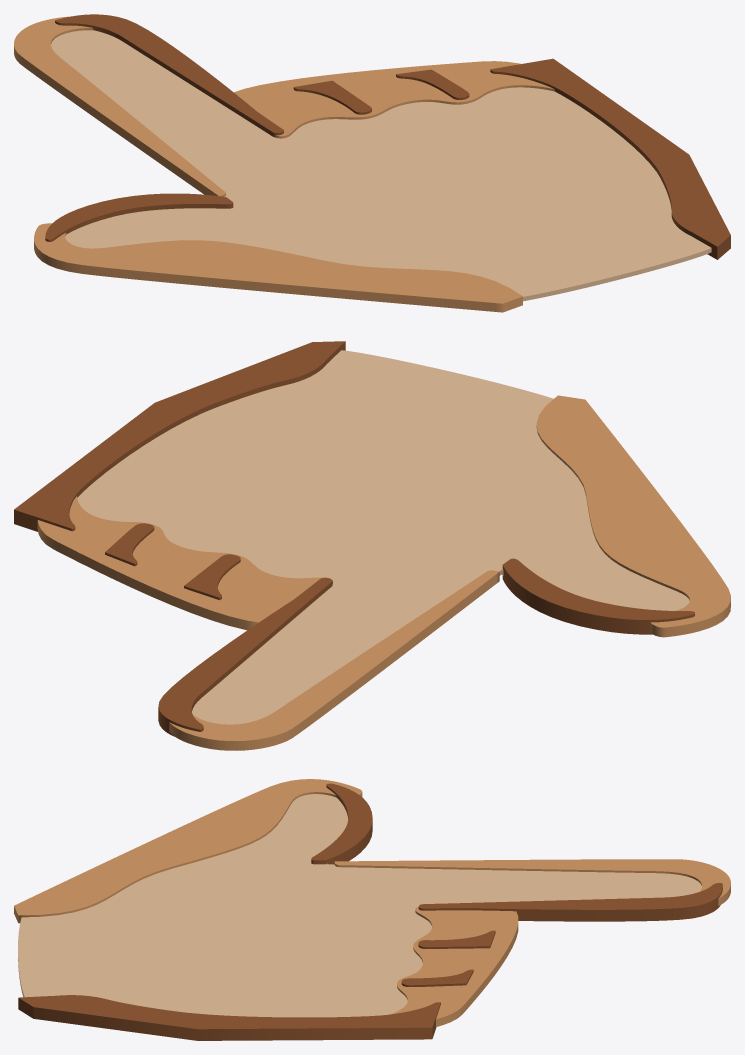
Rendered from emoji_u1f446_1f3fc.glb.
3 renders of one model, top to bottom at view 1: azimuth 30°, elevation 25°; view 2: azimuth 150°, elevation 25°; view 3: azimuth 270°, elevation 25°, orthographic. The views are drawn at different scales.
Parts seen in each view (by area): view 1: emoji_u1f446_1f3fc; view 2: emoji_u1f446_1f3fc; view 3: emoji_u1f446_1f3fc.
Part boxes in pixels (<box>): emoji_u1f446_1f3fc: <box>14,14,730,312</box>; emoji_u1f446_1f3fc: <box>14,341,730,750</box>; emoji_u1f446_1f3fc: <box>14,779,730,1040</box>.
Size of the model in its own units: 0.0276 by 0.0006 by 0.0331.
